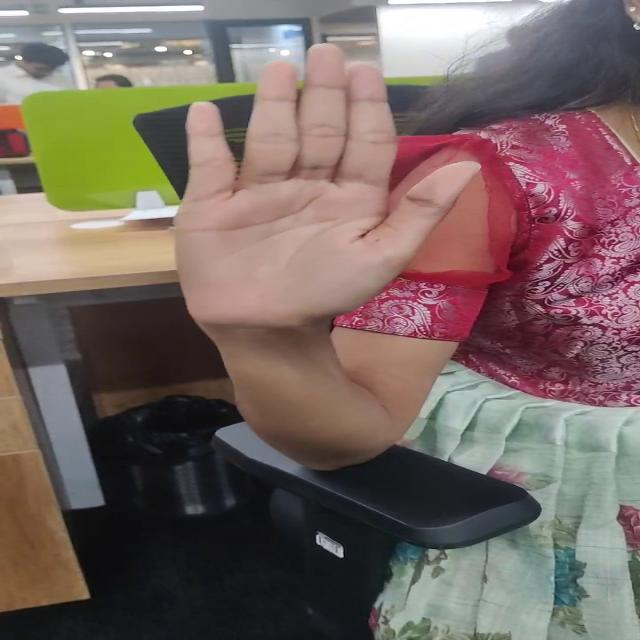no-gloves: (165, 39, 492, 352)
